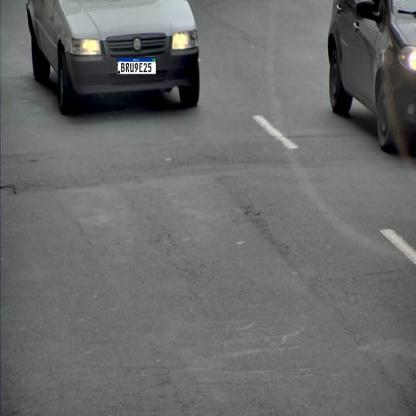PlacaM: (117, 57, 157, 75)
